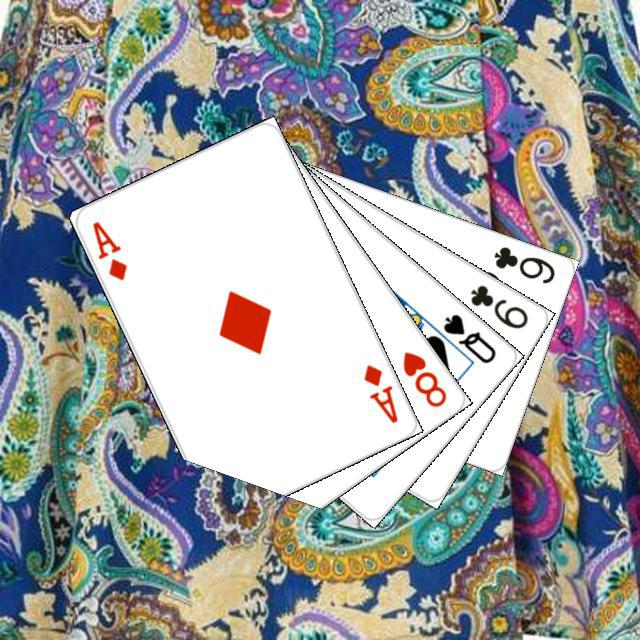6c: (488, 241, 557, 286)
8h: (397, 346, 449, 409)
9c: (465, 280, 530, 331)
Ad: (358, 359, 400, 426), (87, 216, 129, 282)
Qs: (438, 308, 498, 366)
